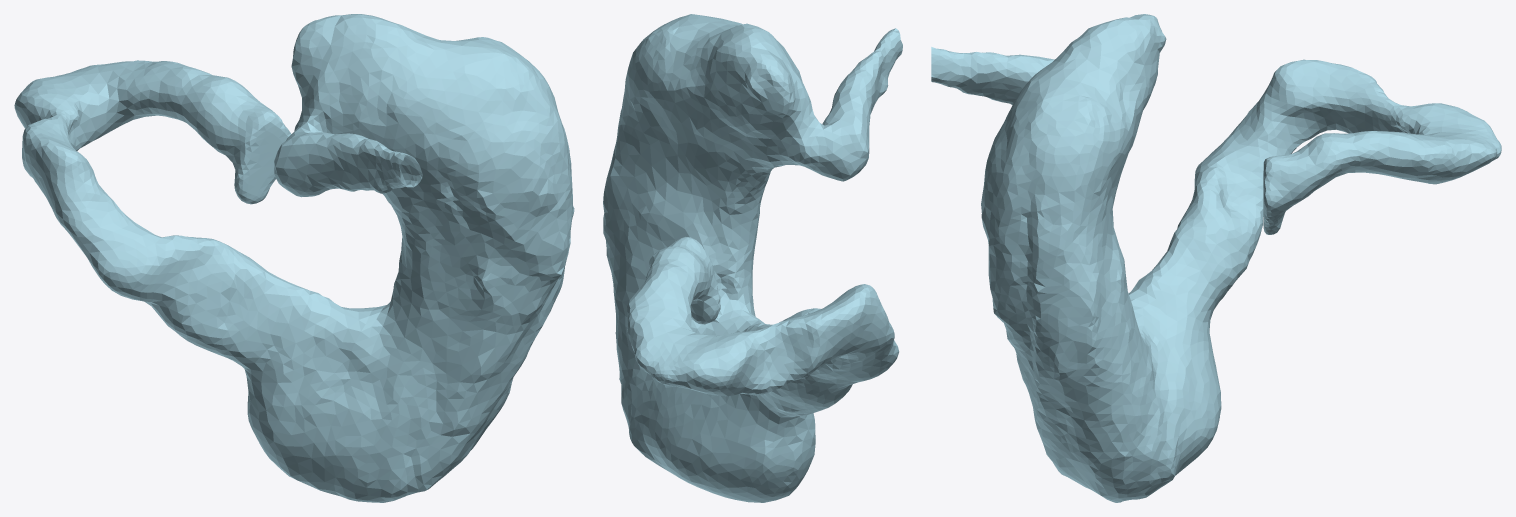
Rendered from stomach.obj.
The picture shows the model from 3 angles, left to right: view 1: azimuth 30°, elevation 25°; view 2: azimuth 150°, elevation 25°; view 3: azimuth 270°, elevation 25°; orthographic projection. The views are drawn at different scales.
Parts seen in each view (by area): view 1: grp1; view 2: grp1; view 3: grp1.
Boxes of the visible parts, x1,y1,x2,y2 form: grp1: (14, 14, 574, 502); grp1: (603, 14, 902, 502); grp1: (931, 14, 1501, 502).
Bounding box in the file's own units: 152 × 175 × 199.
